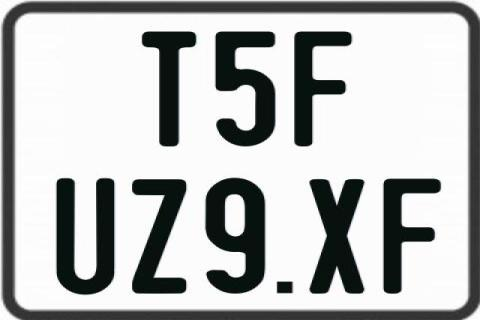0: (212, 31, 276, 150), (206, 177, 266, 293)
F: (380, 176, 441, 291), (291, 31, 350, 149)
T: (140, 31, 198, 150)
U: (55, 179, 114, 297)
X: (308, 180, 364, 298)
Z: (132, 177, 192, 295)
